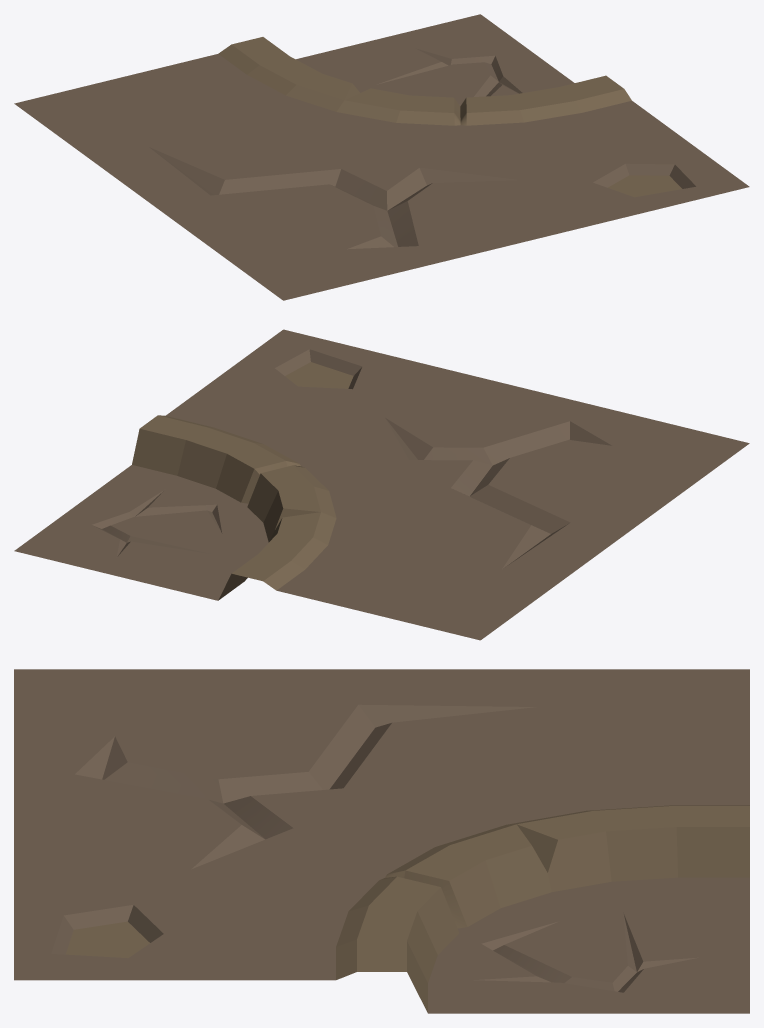
File: LP_PostApoc_PavedInnerCornerCurved.fbx
The picture shows the model from 3 angles, top to bottom: view 1: azimuth 30°, elevation 25°; view 2: azimuth 150°, elevation 25°; view 3: azimuth 270°, elevation 25°; orthographic projection. The views are drawn at different scales.
Visible parts, largest first — view 1: PavedInnerCornerCurved; view 2: PavedInnerCornerCurved; view 3: PavedInnerCornerCurved.
Boxes of the visible parts, x1=… form: PavedInnerCornerCurved: x1=14, y1=14, x2=749, y2=300; PavedInnerCornerCurved: x1=14, y1=329, x2=749, y2=640; PavedInnerCornerCurved: x1=14, y1=669, x2=749, y2=1013.
Bounding box in the file's own units: 400 × 28.82 × 400.
